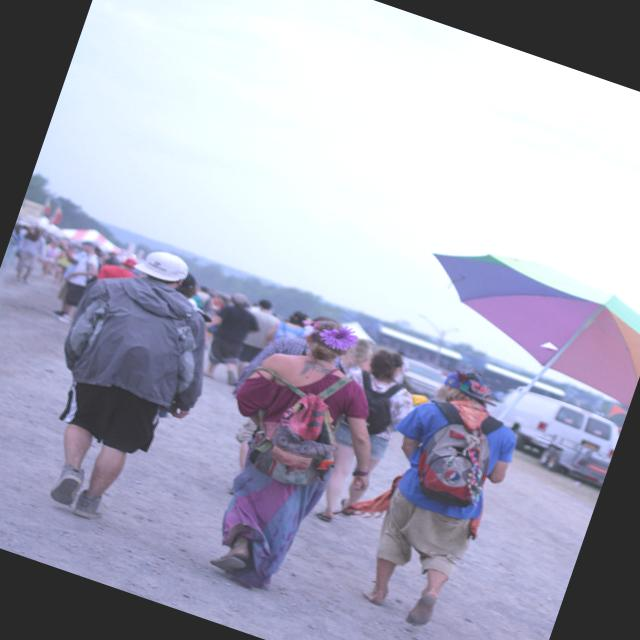Vehicle: (479, 378, 624, 488), (491, 382, 624, 469), (392, 357, 449, 404)
